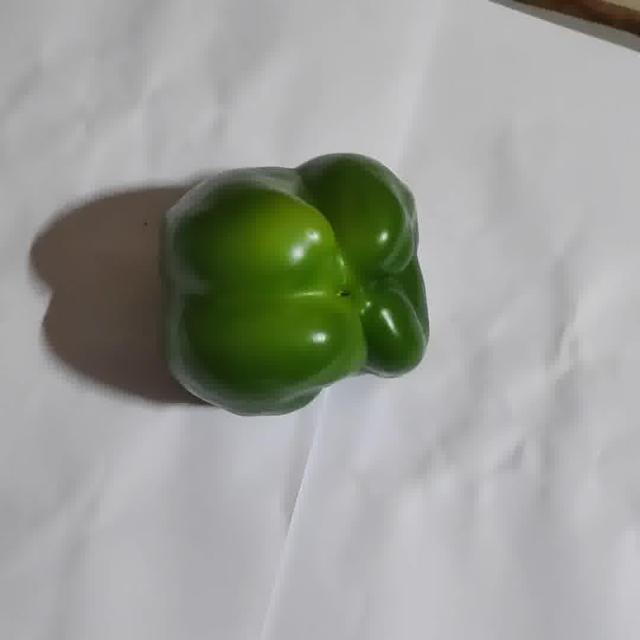Bell Pepper: (164, 153, 428, 416)
